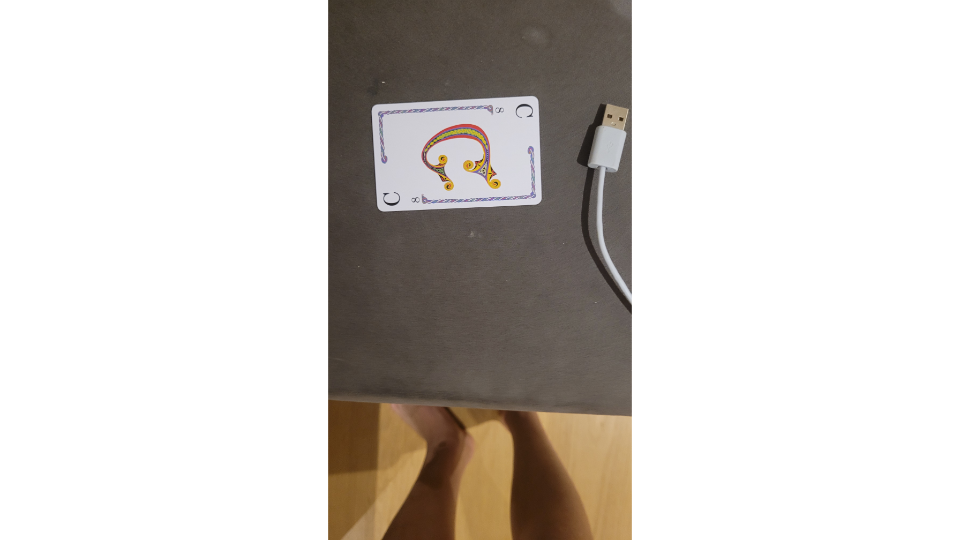C: (368, 94, 546, 214)
